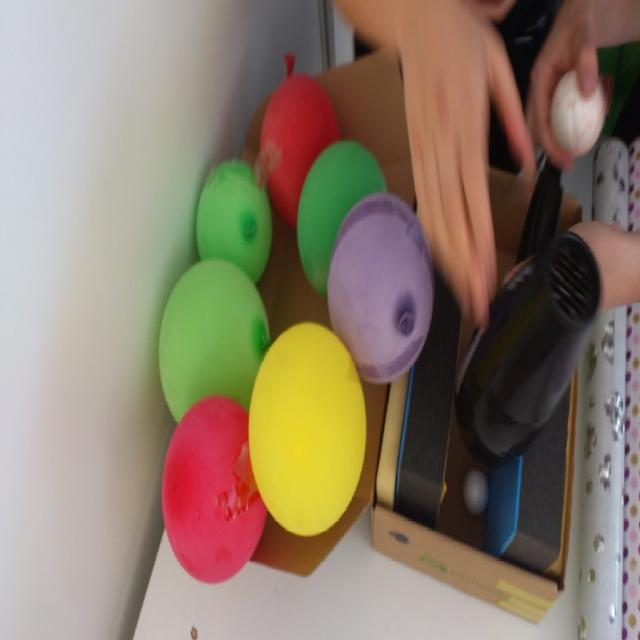Ball: (551, 68, 603, 155)
